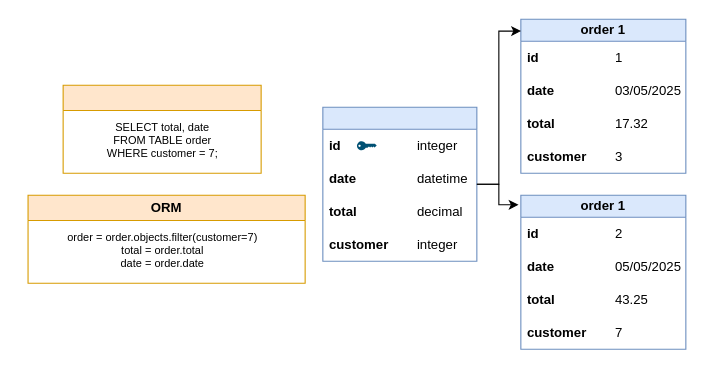
Image size: 705x369. Some labels were removed from this diagram. The shapes that lost their labels are listed below. From the top down, each one's box as (x1, y1, x2, y2) in pixels, then its label:
(62, 84, 261, 173): SQL
(322, 106, 477, 261): order
